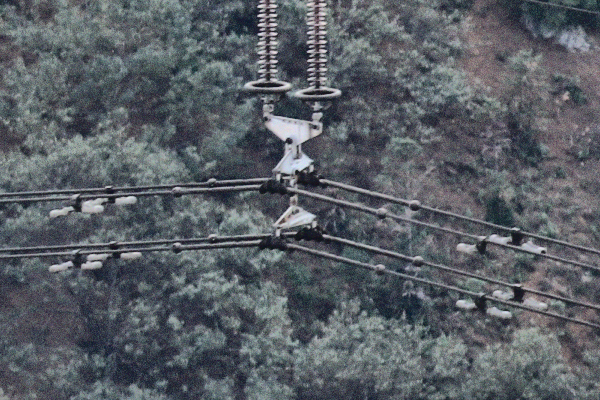damper: (454, 289, 513, 322), (487, 223, 547, 255), (490, 282, 550, 312), (47, 248, 104, 275), (46, 193, 106, 218), (83, 239, 143, 263), (84, 184, 138, 209)
damper_defect: (453, 232, 492, 259)
